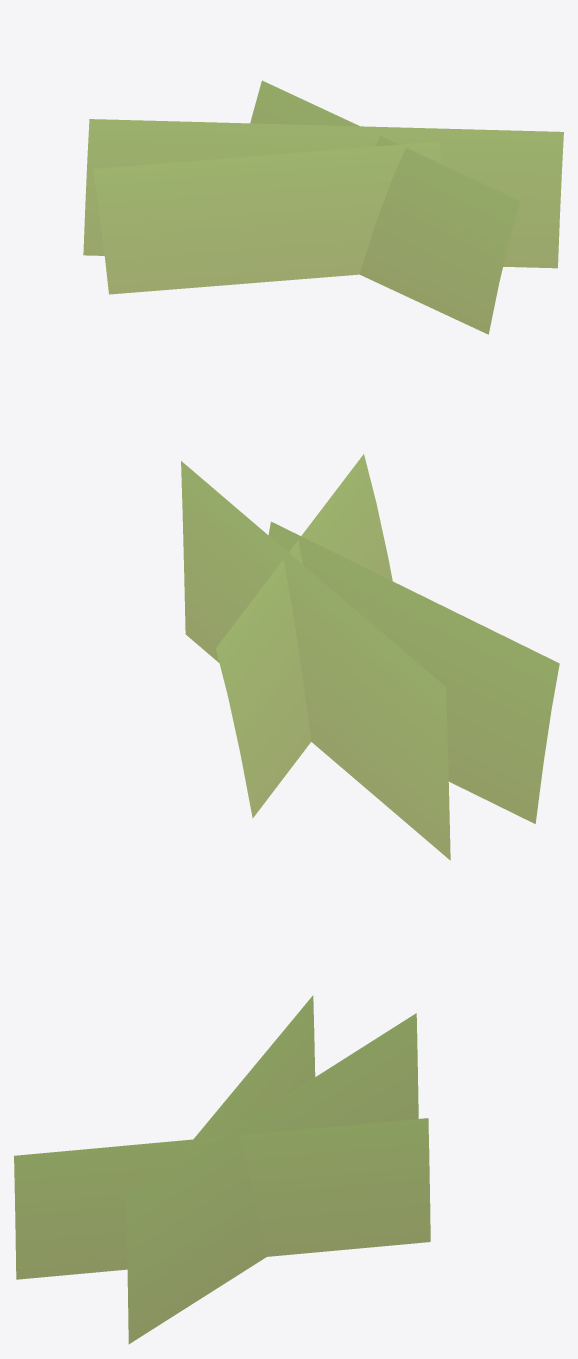
File: grass_e.glb
The picture shows the model from 3 angles, top to bottom: view 1: azimuth 30°, elevation 25°; view 2: azimuth 150°, elevation 25°; view 3: azimuth 270°, elevation 25°; orthographic projection. The views are drawn at different scales.
Parts seen in each view (by area): view 1: LOD0; view 2: LOD0; view 3: LOD0.
Boxes of the visible parts, x1=… form: LOD0: x1=83, y1=80, x2=563, y2=334; LOD0: x1=181, y1=454, x2=559, y2=860; LOD0: x1=14, y1=995, x2=430, y2=1344.
Bounding box in the file's own units: 0.842 × 0.406 × 0.9422.
